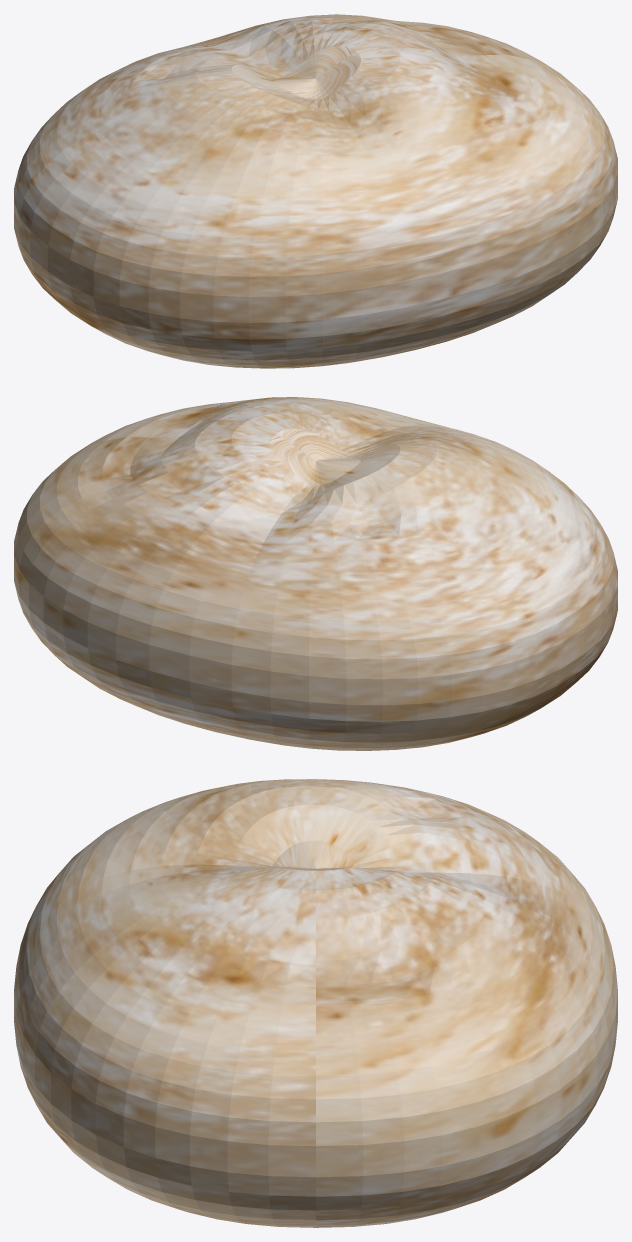
The model's file is dough.obj.
3 renders of one model, top to bottom at view 1: azimuth 30°, elevation 25°; view 2: azimuth 150°, elevation 25°; view 3: azimuth 270°, elevation 25°, orthographic. The views are drawn at different scales.
Parts seen in each view (by area): view 1: dough; view 2: dough; view 3: dough.
Boxes of the visible parts, x1,y1,x2,y2 form: dough: [14, 14, 617, 368]; dough: [14, 397, 617, 750]; dough: [14, 779, 617, 1227].
Size of the model in its own units: 116 by 52.15 by 94.91.
Materials: 1 (1 with a texture image).
